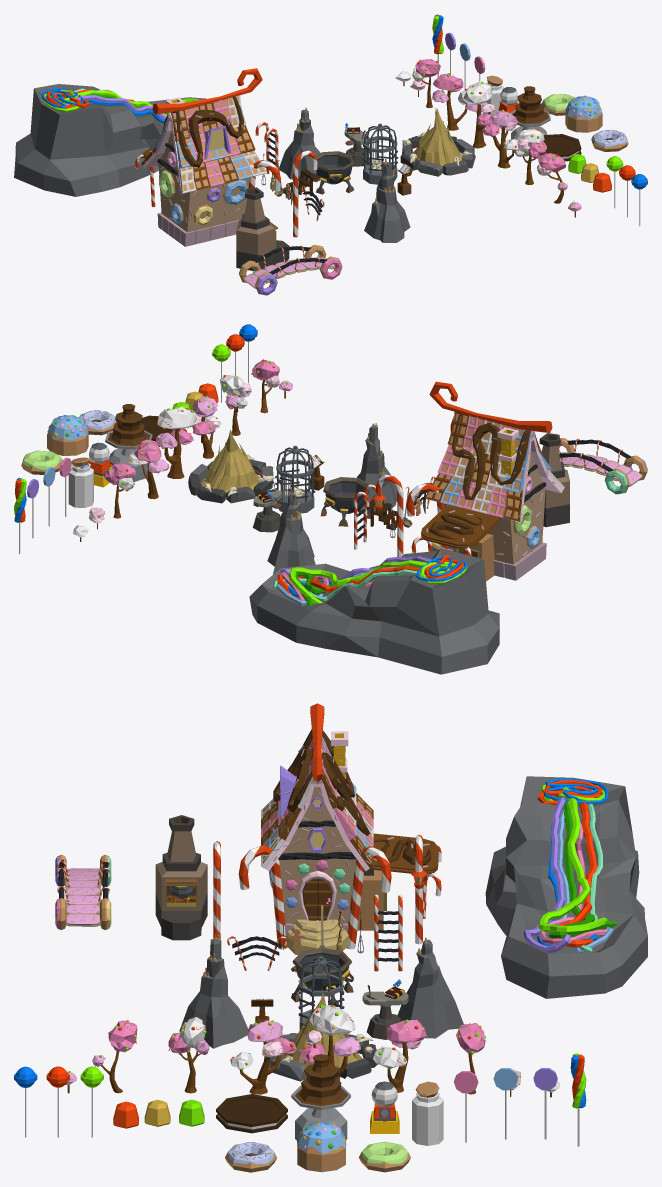
The model's file is Hansel.fbx.
3 renders of one model, top to bottom at view 1: azimuth 30°, elevation 25°; view 2: azimuth 150°, elevation 25°; view 3: azimuth 270°, elevation 25°, orthographic. The views are drawn at different scales.
Visible parts, largest first — view 1: Candy_house, Mountain_9, Big_fire, Chemney, Candy_bridge, Ritual_rock_1, Jail, Ritual_rock_2, Cauldron, Cake, Tree_4, Tree_5 (+12 smaller); view 2: Mountain_9, Candy_house, Big_fire, Candy_bridge, Ritual_rock_2, Chemney, Jail, Tree_4, Ritual_rock_1, Cake, Cauldron, Chocolate_fountain (+14 smaller); view 3: Mountain_9, Candy_house, Chemney, Candy_bridge, Ritual_rock_1, Ritual_rock_2, Big_fire, Tree_4, Biscuit, Cake, Tree_5, Tree_6 (+17 smaller).
Boxes of the visible parts, box(x1,y1,x2,y2) form: Candy_house: box(135, 68, 280, 246); Mountain_9: box(14, 84, 206, 196); Big_fire: box(400, 108, 475, 176); Chemney: box(236, 187, 289, 270); Candy_bridge: box(239, 245, 342, 295); Ritual_rock_1: box(364, 159, 410, 242); Jail: box(362, 123, 398, 184); Ritual_rock_2: box(279, 107, 320, 181); Cauldron: box(313, 151, 354, 194); Cake: box(565, 95, 602, 132); Tree_4: box(463, 81, 495, 148); Tree_5: box(482, 109, 518, 168); Mountain_9: box(249, 548, 499, 674); Candy_house: box(406, 381, 564, 581); Big_fire: box(188, 429, 275, 503); Candy_bridge: box(541, 438, 647, 494); Ritual_rock_2: box(267, 491, 315, 574); Chemney: box(539, 433, 569, 527); Jail: box(275, 445, 315, 513); Tree_4: box(156, 406, 197, 478); Ritual_rock_1: box(357, 423, 397, 513); Cake: box(47, 415, 88, 455); Cauldron: box(320, 477, 370, 526); Chocolate_fountain: box(108, 404, 149, 446); Mountain_9: box(485, 776, 647, 998); Candy_house: box(238, 703, 441, 954); Chemney: box(155, 815, 207, 940); Candy_bridge: box(55, 854, 111, 929); Ritual_rock_1: box(179, 933, 248, 1048); Ritual_rock_2: box(397, 937, 463, 1038); Big_fire: box(268, 989, 378, 1081); Tree_4: box(299, 1005, 361, 1077); Biscuit: box(216, 1094, 287, 1133); Cake: box(297, 1122, 346, 1172); Tree_5: box(230, 1020, 296, 1094); Tree_6: box(373, 1019, 428, 1092).
Size of the model in its own units: 4302 by 1348 by 3546.
